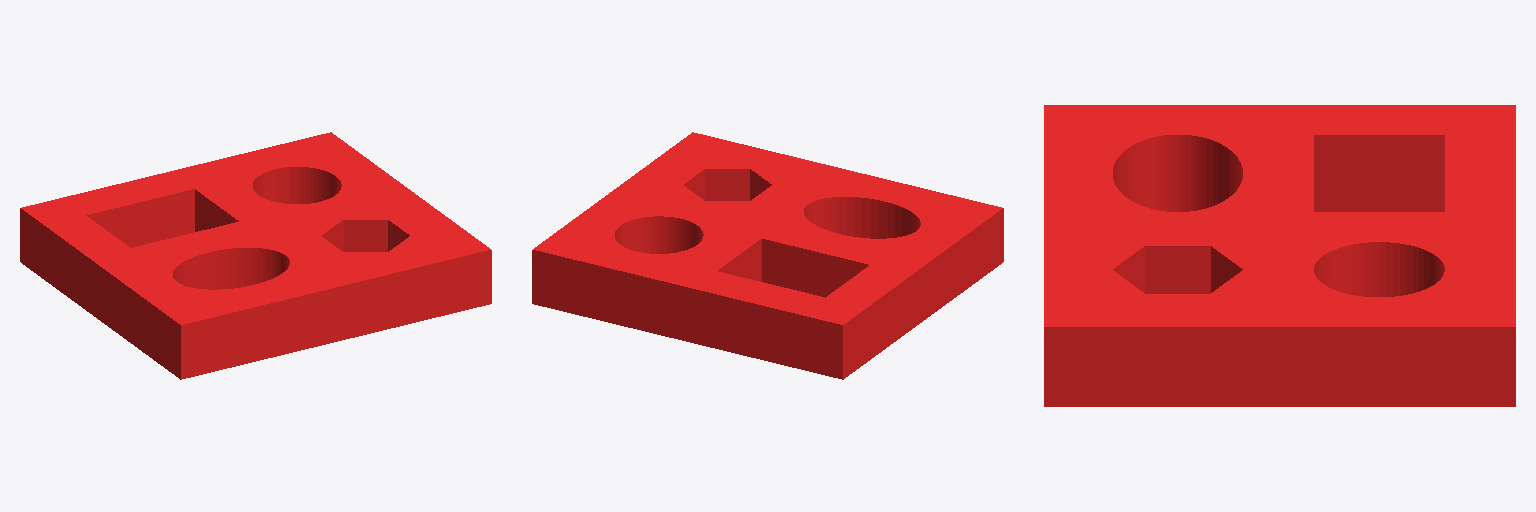
The robot description file, URDF, robot "hole":
<?xml version="1.0" ?>
<robot name="hole">
  <link name="baseLink">
    <contact>
      <lateral_friction value="0.5"/>
      <rolling_friction value="0.5"/>
      <contact_cfm value="0.0"/>
      <contact_erp value="1.0"/>
    </contact>
    <inertial>
      <origin rpy="0 0 0" xyz="0 0 0"/>
       <mass value="0.0"/>
       <inertia ixx="0" ixy="0" ixz="0" iyy="0" iyz="0" izz="0"/>
    </inertial>
    <visual>
      <origin rpy="0 0 0" xyz="0 0.07 0"/>
      <geometry>
				<mesh filename="hole.obj" scale="1 1 1"/>
      </geometry>
       <material name="white">
        <color rgba="1 0.2 0.2 1.0"/>
      </material>
    </visual>
    <collision>
      <origin rpy="0 0 0" xyz="0 0 0"/>
      <geometry>
	 	<mesh filename="hole.obj" scale="1 1 1"/>
      </geometry>
    </collision>
  </link>
</robot>

--- Facts derived from the render (not from the file) ---
3 views of the same robot in one strip: view 1: azimuth 30°, elevation 25°; view 2: azimuth 150°, elevation 25°; view 3: azimuth 270°, elevation 25° (orthographic).
Robot: hole — 1 links, 0 joints (none); root link baseLink; default pose: all joints at 0.
Visible links, largest first — view 1: baseLink; view 2: baseLink; view 3: baseLink.
Link boxes in pixels (<box>): baseLink: <box>20,132,491,379</box>; baseLink: <box>532,132,1003,379</box>; baseLink: <box>1044,105,1515,406</box>.
Size in the robot's own frame: 0.149 by 0.1332 by 0.025 metres.
1 mesh visuals loaded from 1 distinct referenced files (1 OBJ).